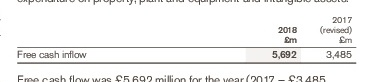table: (0, 0, 376, 82)
